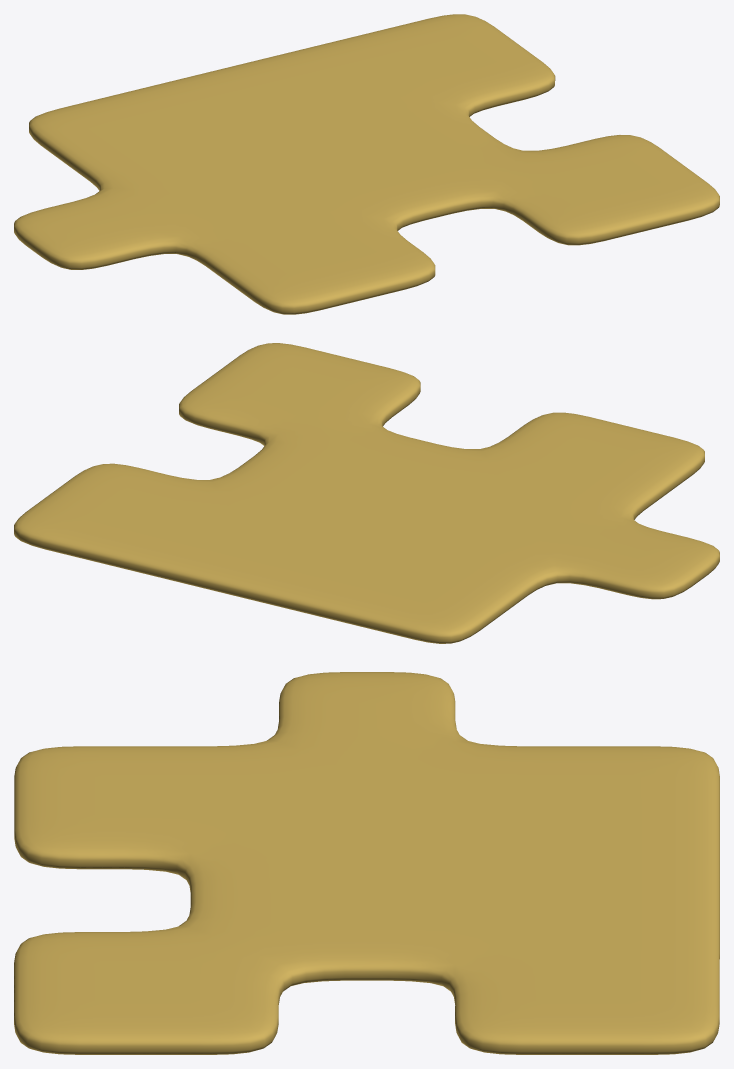
Rendered from GoldenPuzzle-06-OFFM.fbx.
3 views of the same model, one above another, from view 1: azimuth 30°, elevation 25°; view 2: azimuth 150°, elevation 25°; view 3: azimuth 270°, elevation 25° (orthographic). The views are drawn at different scales.
Visible parts, largest first — view 1: Puzzle_006; view 2: Puzzle_006; view 3: Puzzle_006.
Boxes of the visible parts, x1,y1,x2,y2 form: Puzzle_006: [14, 14, 719, 314]; Puzzle_006: [14, 343, 719, 643]; Puzzle_006: [14, 672, 719, 1054].
Bounding box in the file's own units: 0.3125 × 0.00924 × 0.251.
